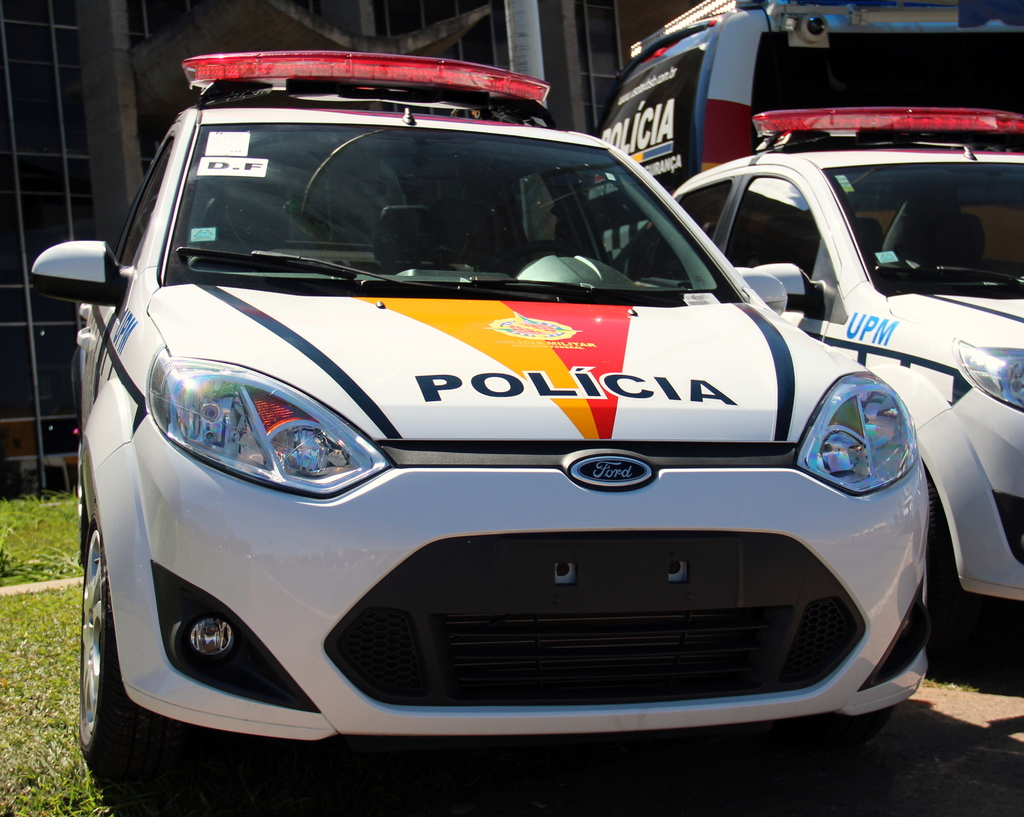Car: (30, 50, 927, 808), (612, 103, 1024, 605)
